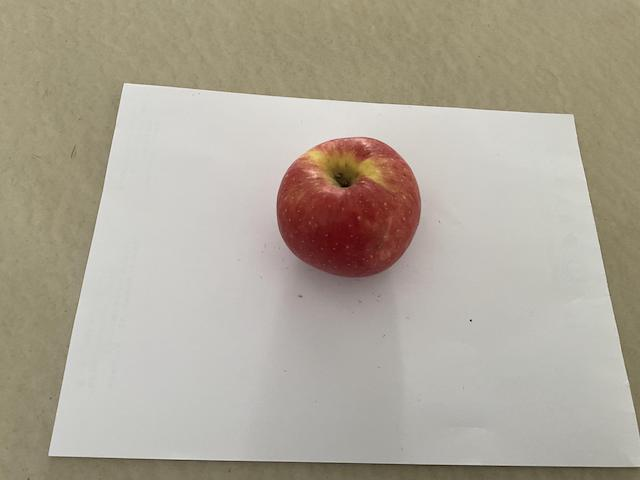apple: (272, 130, 425, 283)
